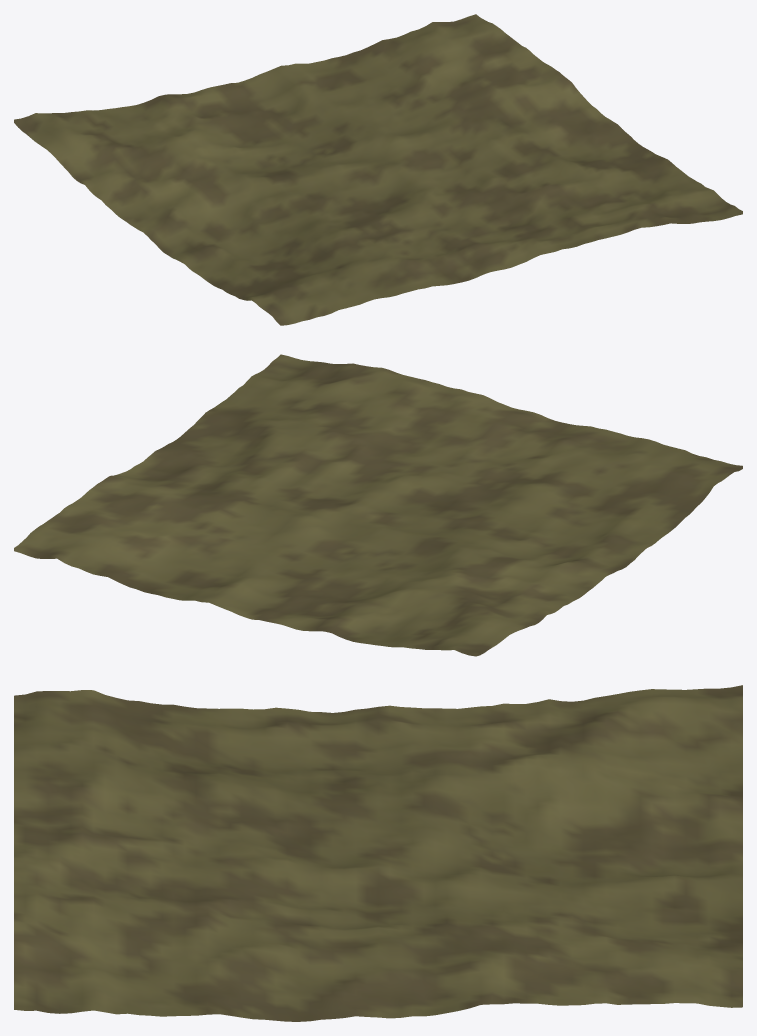
Rendered from land_f_00_10.glb.
The picture shows the model from 3 angles, top to bottom: view 1: azimuth 30°, elevation 25°; view 2: azimuth 150°, elevation 25°; view 3: azimuth 270°, elevation 25°; orthographic projection. The views are drawn at different scales.
Visible parts, largest first — view 1: land_f_00_10; view 2: land_f_00_10; view 3: land_f_00_10.
Boxes of the visible parts, x1=… form: land_f_00_10: x1=14, y1=14, x2=742, y2=325; land_f_00_10: x1=14, y1=354, x2=742, y2=656; land_f_00_10: x1=14, y1=685, x2=742, y2=1021.
Bounding box in the file's own units: 3840 × 206 × 3840.
